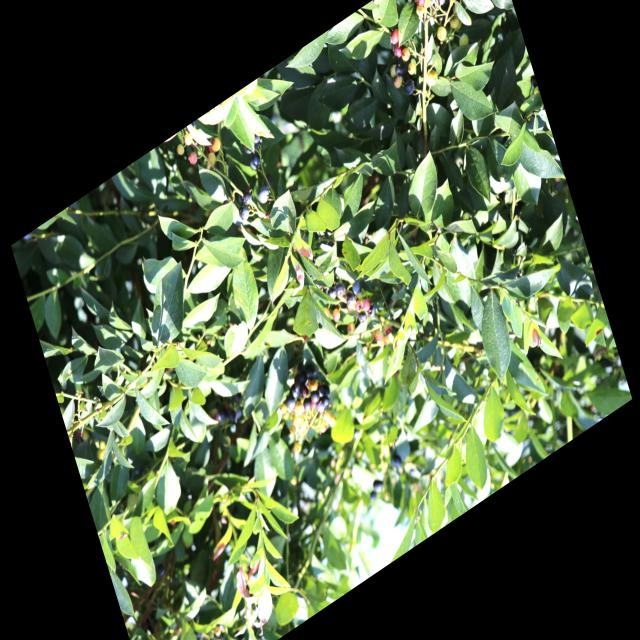blueberry: (254, 182, 271, 207), (246, 150, 262, 174), (236, 200, 251, 223), (401, 75, 416, 98), (393, 57, 408, 80), (281, 392, 296, 414), (240, 187, 255, 206), (334, 280, 347, 300), (262, 170, 275, 190), (356, 307, 369, 326), (344, 288, 356, 308), (352, 277, 364, 296), (301, 395, 313, 413), (309, 388, 321, 406), (327, 284, 338, 302), (290, 383, 301, 400), (315, 398, 326, 413), (433, 0, 450, 9), (366, 304, 376, 319), (318, 383, 327, 398)
blueberry-halfripe: (388, 26, 403, 46), (392, 40, 406, 61), (187, 148, 199, 168), (361, 296, 372, 312), (347, 320, 358, 335), (331, 306, 341, 322), (374, 328, 384, 344), (383, 321, 393, 336), (354, 298, 363, 313), (322, 305, 331, 319), (416, 0, 428, 8)
blueberry-unripe: (424, 67, 440, 89), (434, 23, 448, 45), (209, 134, 223, 155), (392, 72, 406, 91), (399, 44, 412, 64), (449, 13, 462, 33), (457, 31, 470, 50), (388, 60, 400, 80), (182, 130, 195, 148), (205, 150, 218, 168), (406, 59, 418, 78), (175, 142, 186, 157), (415, 4, 425, 18), (423, 0, 432, 9)
